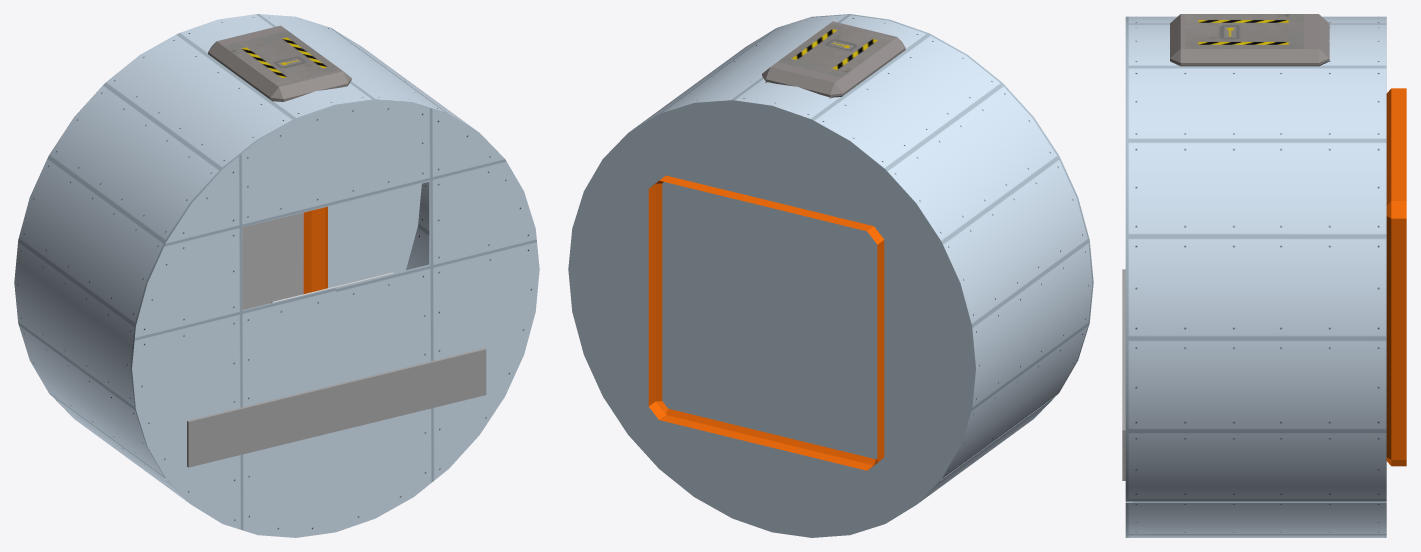
The model's file is MEP IVA.fbx.
3 views of the same model, side by side, from view 1: azimuth 30°, elevation 25°; view 2: azimuth 150°, elevation 25°; view 3: azimuth 270°, elevation 25° (orthographic). The views are drawn at different scales.
Visible parts, largest first — view 1: IVA, Platform Base.001, Hatch, Airlock.001; view 2: IVA, Hatch, Airlock.001; view 3: IVA, Airlock.001, Hatch, Platform Base.001, Floor.
Part boxes in pixels (left/top/right/bottom): IVA: left=14, top=14, right=539, bottom=537; Platform Base.001: left=187, top=348, right=486, bottom=467; Hatch: left=242, top=206, right=327, bottom=309; Airlock.001: left=208, top=25, right=351, bottom=101; IVA: left=568, top=14, right=1093, bottom=537; Hatch: left=648, top=175, right=884, bottom=470; Airlock.001: left=762, top=21, right=905, bottom=97; IVA: left=1125, top=16, right=1386, bottom=537; Airlock.001: left=1170, top=14, right=1329, bottom=66; Hatch: left=1386, top=88, right=1406, bottom=466; Platform Base.001: left=1122, top=269, right=1125, bottom=480; Floor: left=1125, top=501, right=1386, bottom=502.
Bounding box in the file's own units: 3.92 × 4 × 2.14.
